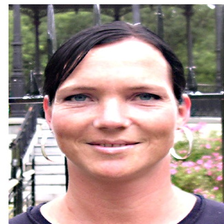no_mask: (53, 48, 178, 177)
